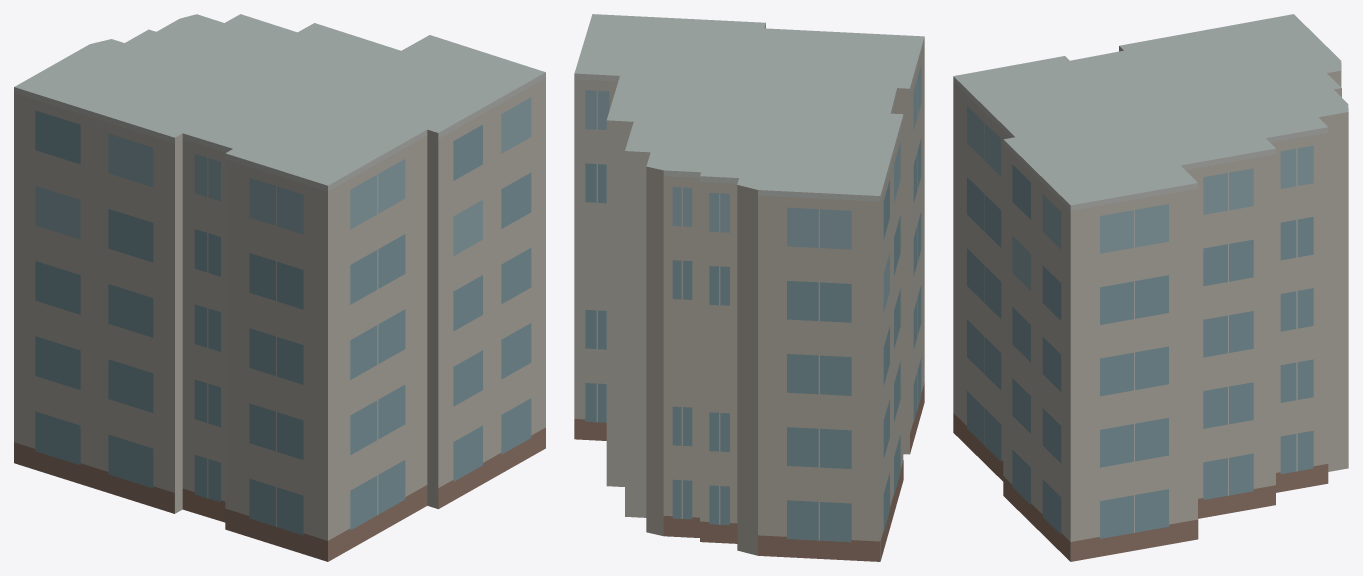
File: survey-upis-32634497.glb
3 renders of one model, left to right at view 1: azimuth 30°, elevation 25°; view 2: azimuth 150°, elevation 25°; view 3: azimuth 270°, elevation 25°, orthographic. The views are drawn at different scales.
Visible parts, largest first — view 1: survey-upis-32634497.tmp; view 2: survey-upis-32634497.tmp; view 3: survey-upis-32634497.tmp.
Boxes of the visible parts, left/top/right/bottom form: survey-upis-32634497.tmp: left=14, top=14, right=545, bottom=561; survey-upis-32634497.tmp: left=574, top=14, right=924, bottom=561; survey-upis-32634497.tmp: left=953, top=14, right=1348, bottom=561.
Size of the model in its own units: 18.09 by 15.7 by 15.79.
